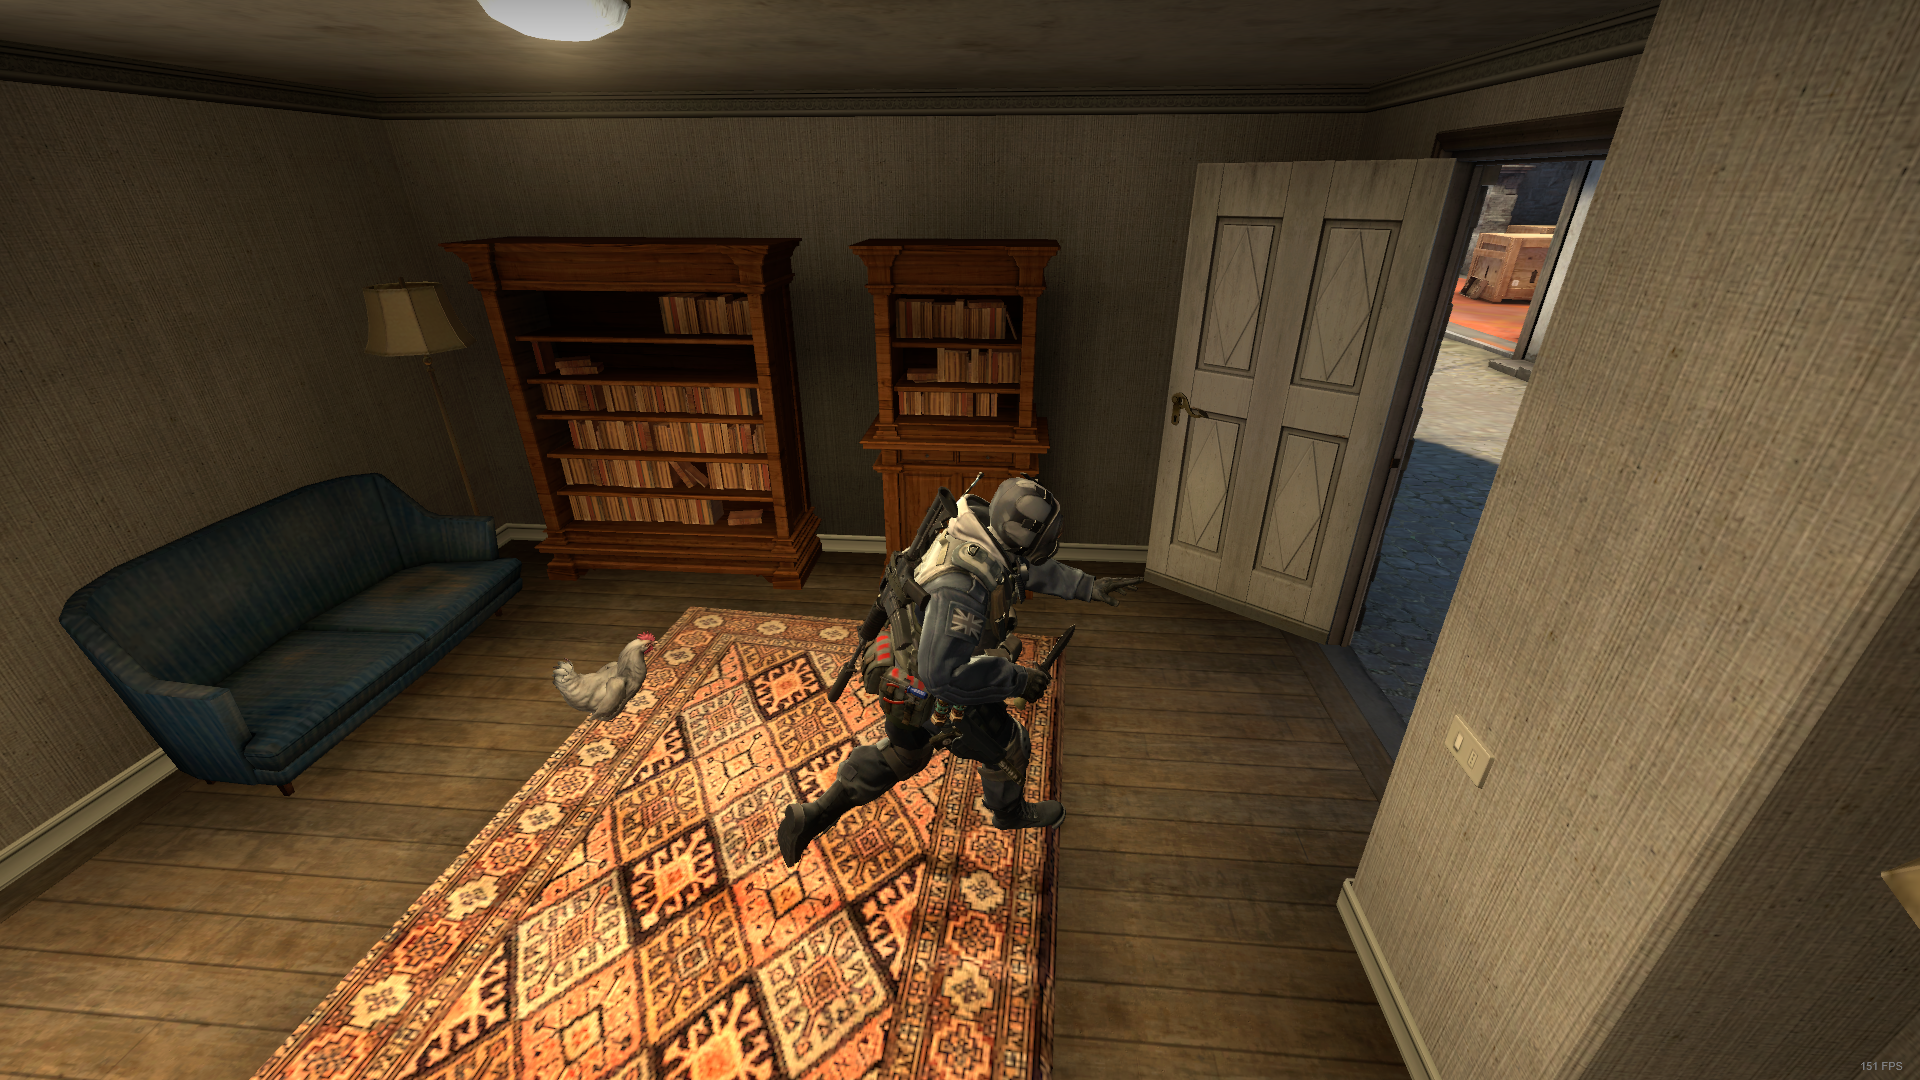ct: (781, 472, 1143, 876)
